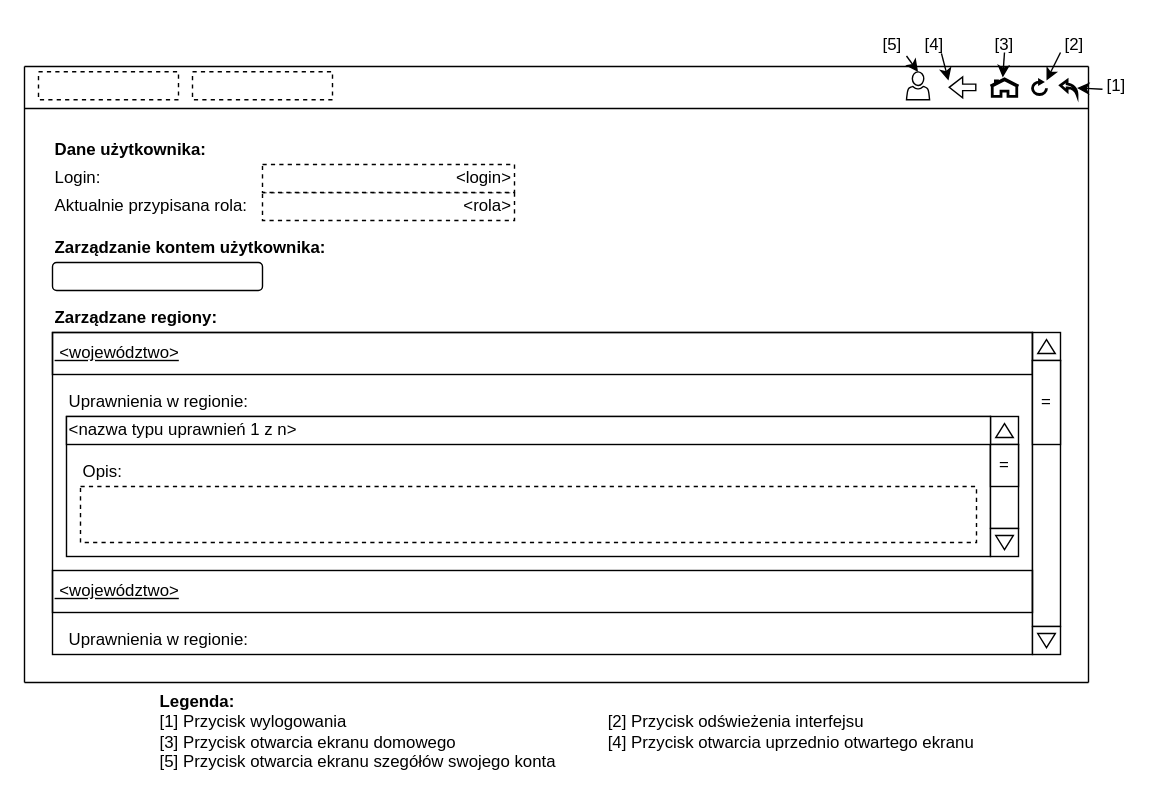
Some shapes in this 1155 by 804 pixel diagram are drawn without their labels. Each missing label, with the box of its shape:
login: (37, 70, 178, 100)
opis typu uprawnień 1 z n: (79, 485, 976, 542)
rola: (191, 70, 332, 100)
Usuń konto użytkownika: (51, 261, 262, 290)
